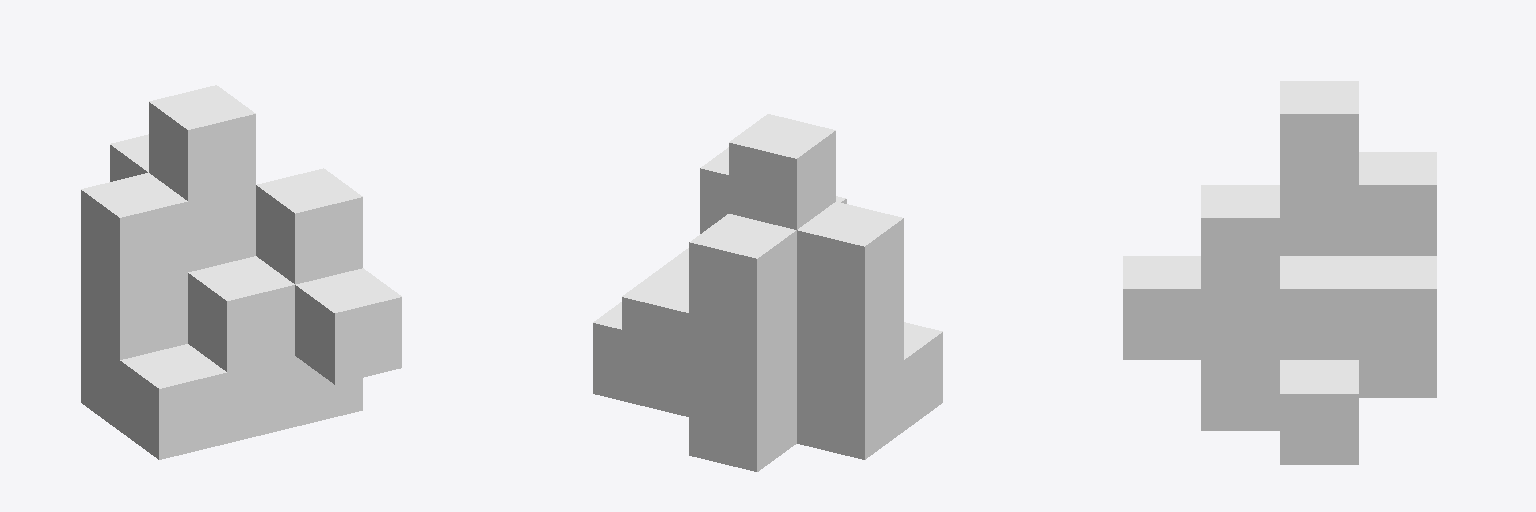
File: des_rock8.obj
3 renders of one model, left to right at view 1: azimuth 30°, elevation 25°; view 2: azimuth 150°, elevation 25°; view 3: azimuth 270°, elevation 25°, orthographic.
Parts seen in each view (by area): view 1: object 1; view 2: object 1; view 3: object 1.
Boxes of the visible parts, <box> form: object 1: <box>81,85,401,459</box>; object 1: <box>593,114,942,471</box>; object 1: <box>1123,81,1436,464</box>.
Bounding box in the file's own units: 0.4 × 0.4 × 0.4.